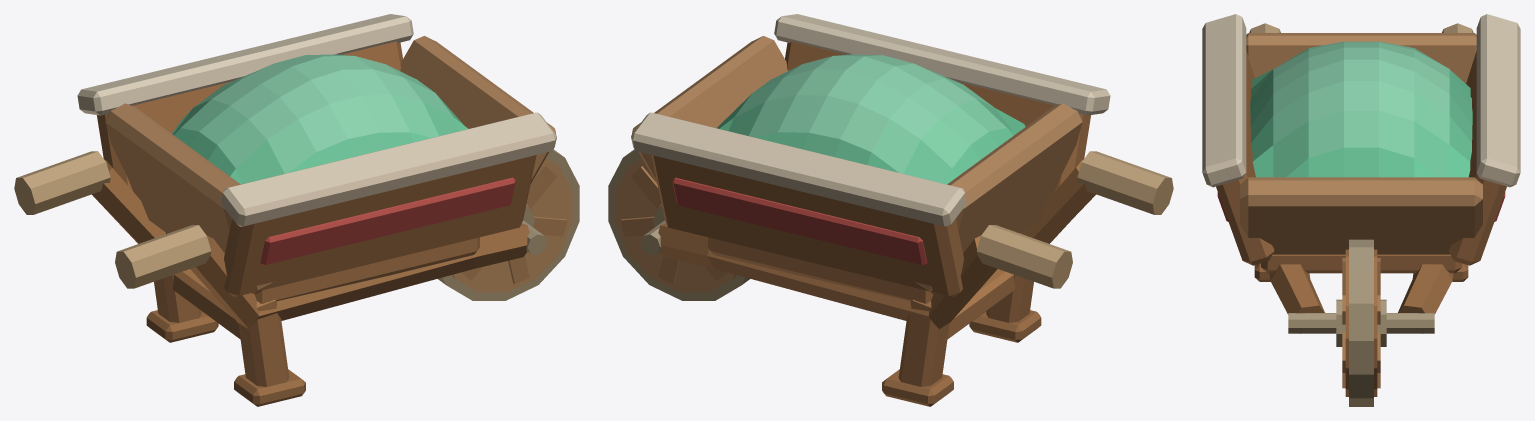
File: ranch_wheelbarrow.fbx
3 renders of one model, left to right at view 1: azimuth 30°, elevation 25°; view 2: azimuth 150°, elevation 25°; view 3: azimuth 270°, elevation 25°, orthographic. The views are drawn at different scales.
Parts seen in each view (by area): view 1: ranch_wheelbarrow; view 2: ranch_wheelbarrow; view 3: ranch_wheelbarrow.
Part boxes in pixels (x1=…): ranch_wheelbarrow: x1=14, y1=14, x2=579, y2=406; ranch_wheelbarrow: x1=608, y1=14, x2=1173, y2=406; ranch_wheelbarrow: x1=1202, y1=14, x2=1520, y2=406.
Bounding box in the file's own units: 6.59 × 3.45 × 3.8.
